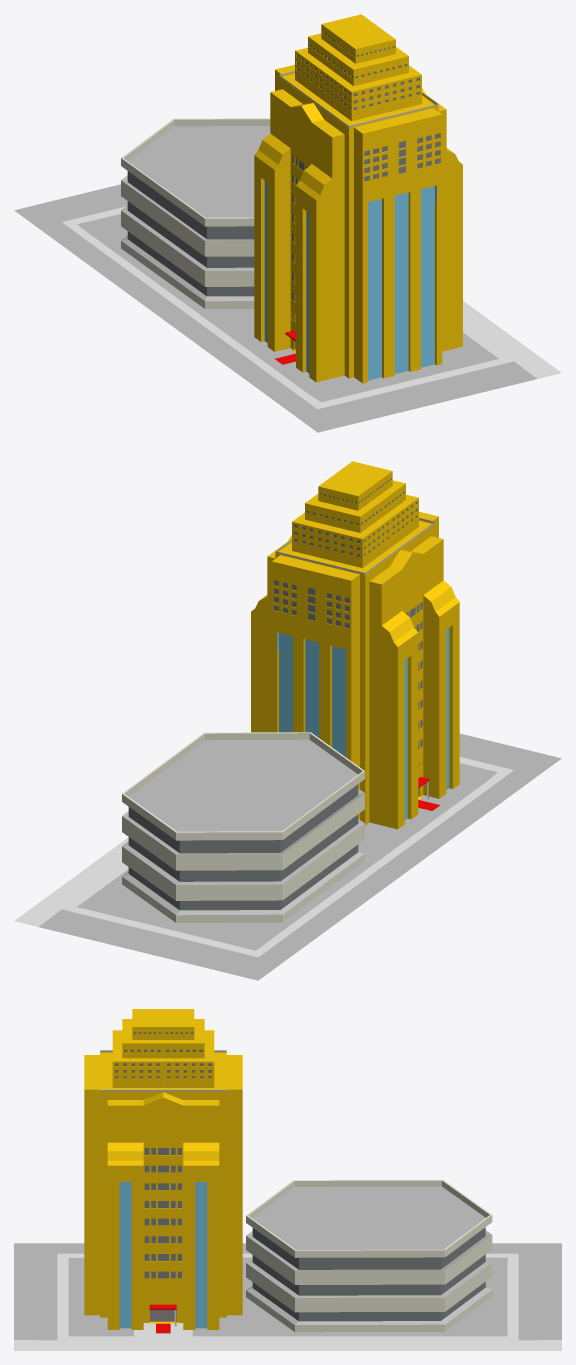
The model's file is Hotel.gltf.
The picture shows the model from 3 angles, top to bottom: view 1: azimuth 30°, elevation 25°; view 2: azimuth 150°, elevation 25°; view 3: azimuth 270°, elevation 25°; orthographic projection. The views are drawn at different scales.
Parts seen in each view (by area): view 1: Cube.001, Plane.002, Cylinder, Cylinder.001; view 2: Cube.001, Plane.002, Cylinder, Cylinder.001; view 3: Cube.001, Plane.002, Cylinder, Cylinder.001.
Boxes of the visible parts, bbox=[...] form: Cube.001: bbox=[254, 14, 462, 383]; Plane.002: bbox=[14, 184, 561, 432]; Cylinder: bbox=[121, 126, 270, 301]; Cylinder.001: bbox=[121, 118, 270, 308]; Cube.001: bbox=[251, 461, 459, 829]; Plane.002: bbox=[14, 733, 561, 980]; Cylinder: bbox=[122, 739, 364, 915]; Cylinder.001: bbox=[122, 732, 364, 922]; Cube.001: bbox=[84, 1009, 242, 1329]; Plane.002: bbox=[14, 1243, 561, 1350]; Cylinder: bbox=[246, 1186, 491, 1324]; Cylinder.001: bbox=[246, 1180, 492, 1332].
Size of what is drawn, in the model's own units: 16.02 by 19.58 by 34.51.
